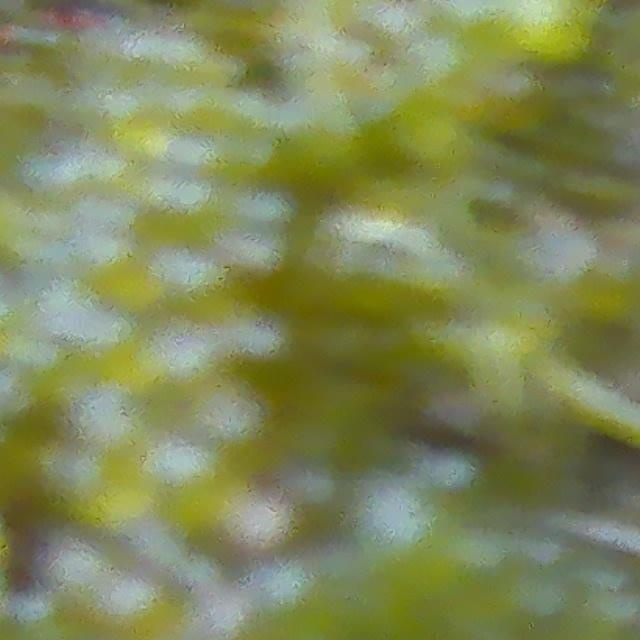SeaGrape: (354, 477, 444, 568), (194, 383, 267, 452), (152, 438, 219, 496), (51, 542, 111, 605)
